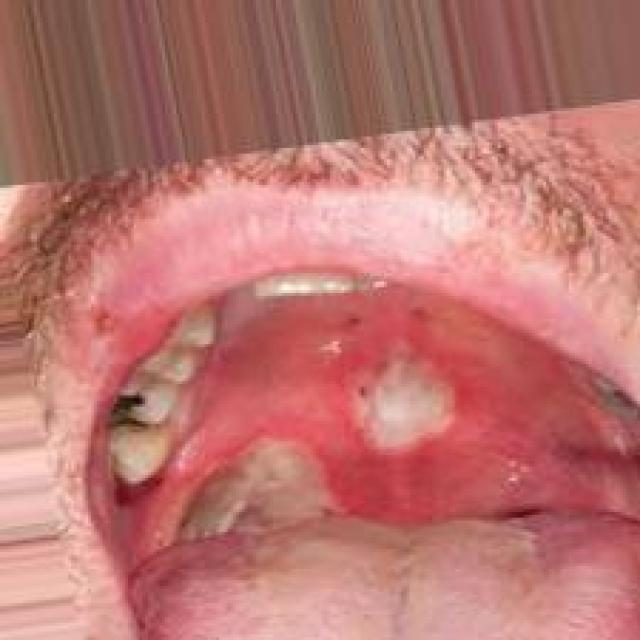caries: (106, 368, 172, 437)
